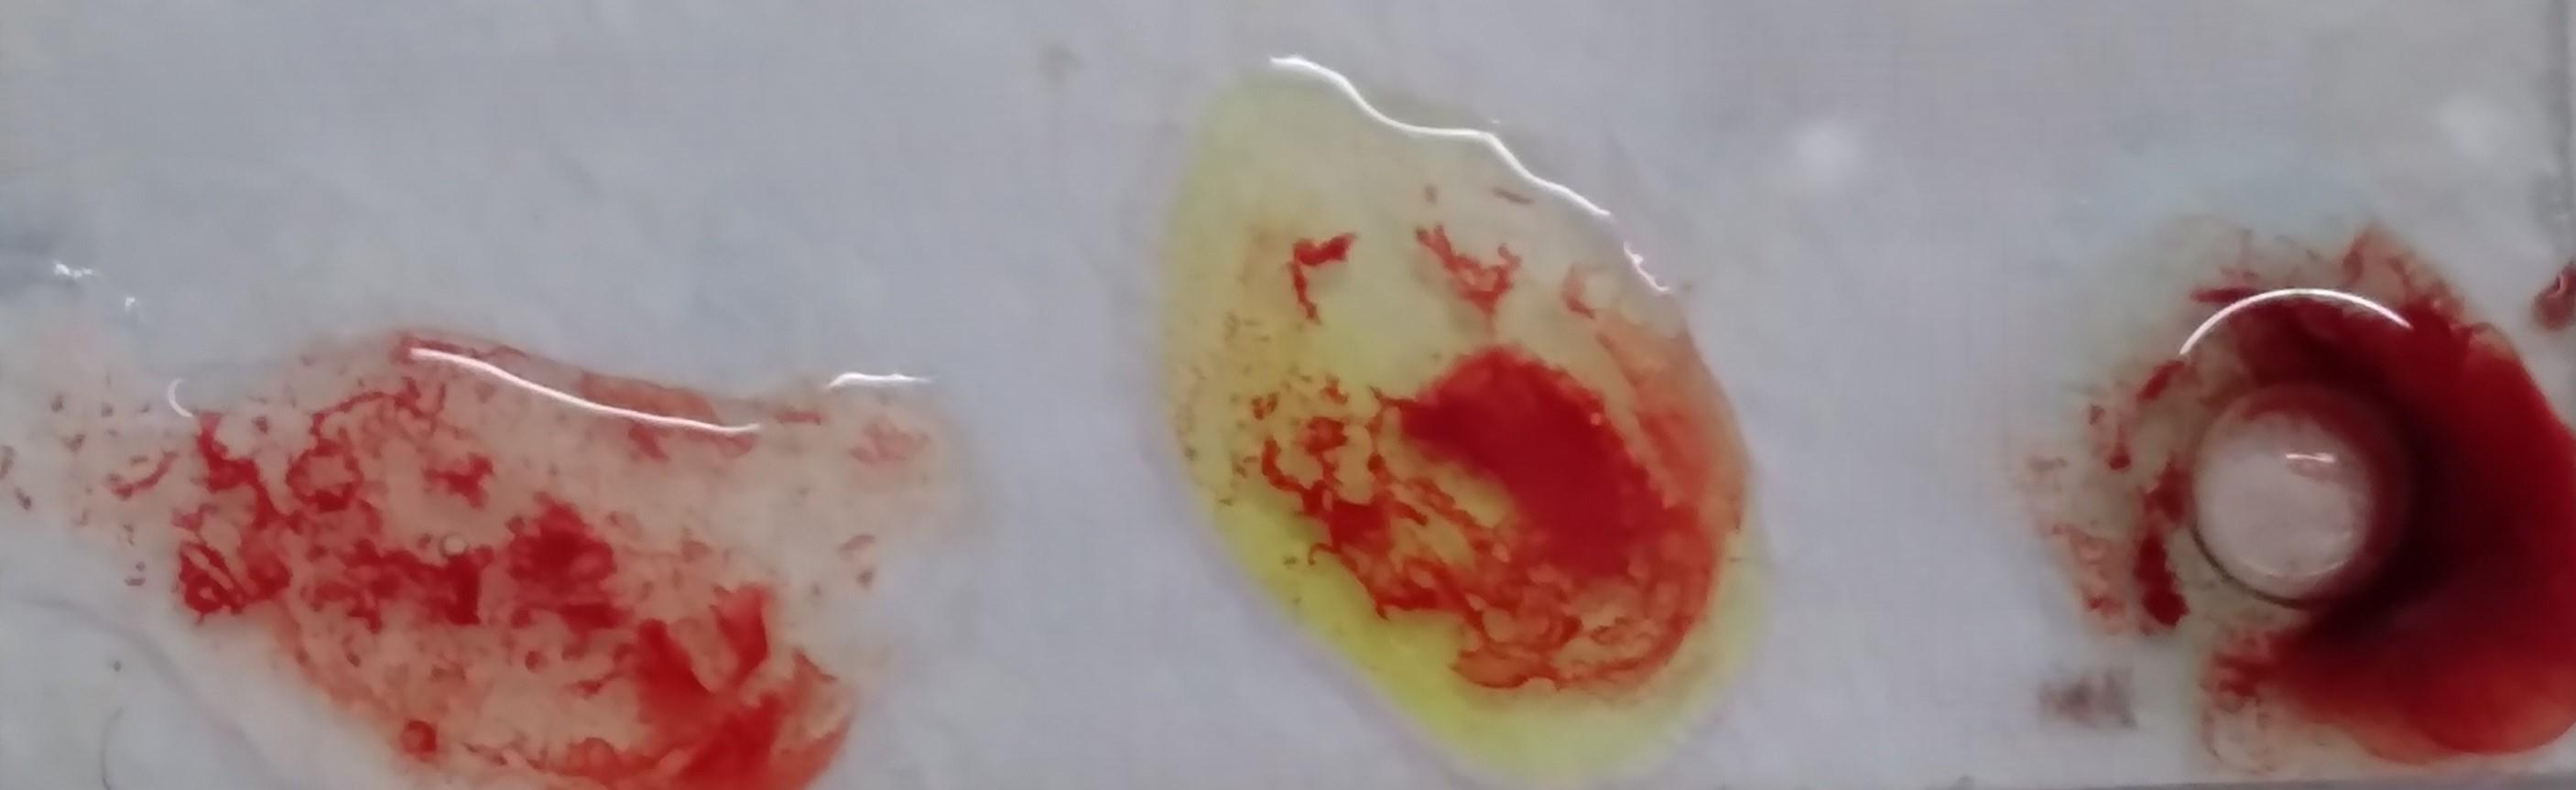A: (2058, 179, 2576, 790)
B: (1161, 53, 1732, 782)
D: (30, 358, 918, 790)
